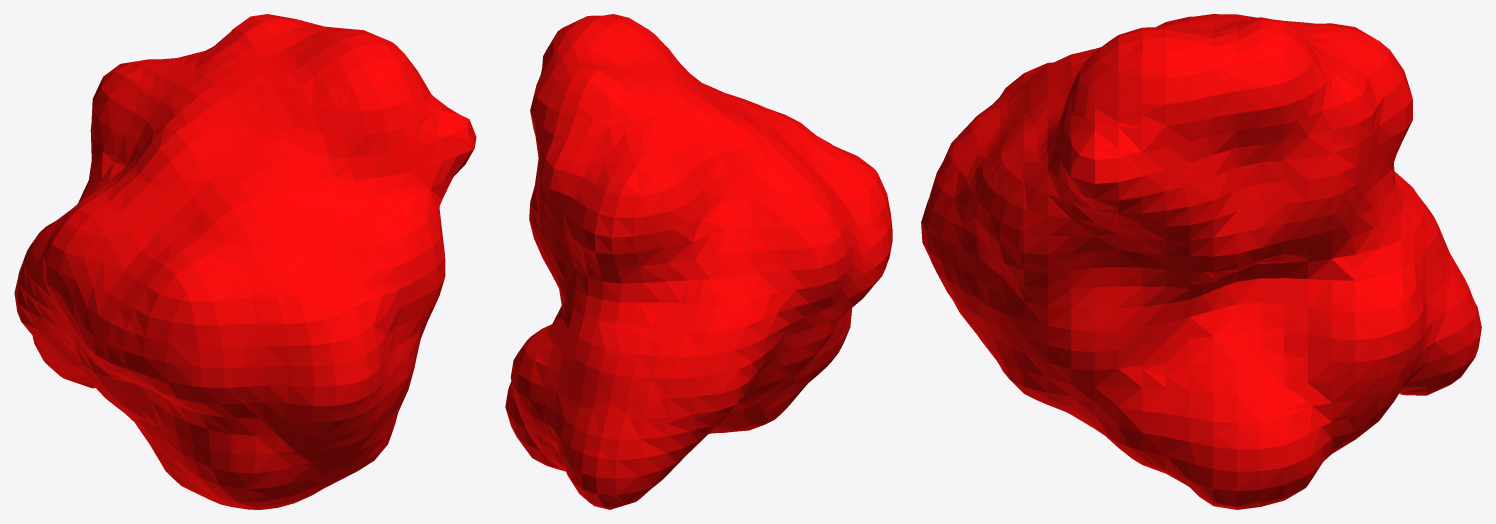
Rendered from nfi_coarse.dae.
3 renders of one model, left to right at view 1: azimuth 30°, elevation 25°; view 2: azimuth 150°, elevation 25°; view 3: azimuth 270°, elevation 25°, orthographic. The views are drawn at different scales.
Visible parts, largest first — view 1: nfi; view 2: nfi; view 3: nfi.
Boxes of the visible parts, left/top/right/bottom form: nfi: left=14, top=14, right=476, bottom=509; nfi: left=505, top=14, right=892, bottom=509; nfi: left=921, top=14, right=1481, bottom=509.
Bounding box in the file's own units: 42.3 × 48.71 × 52.22.
